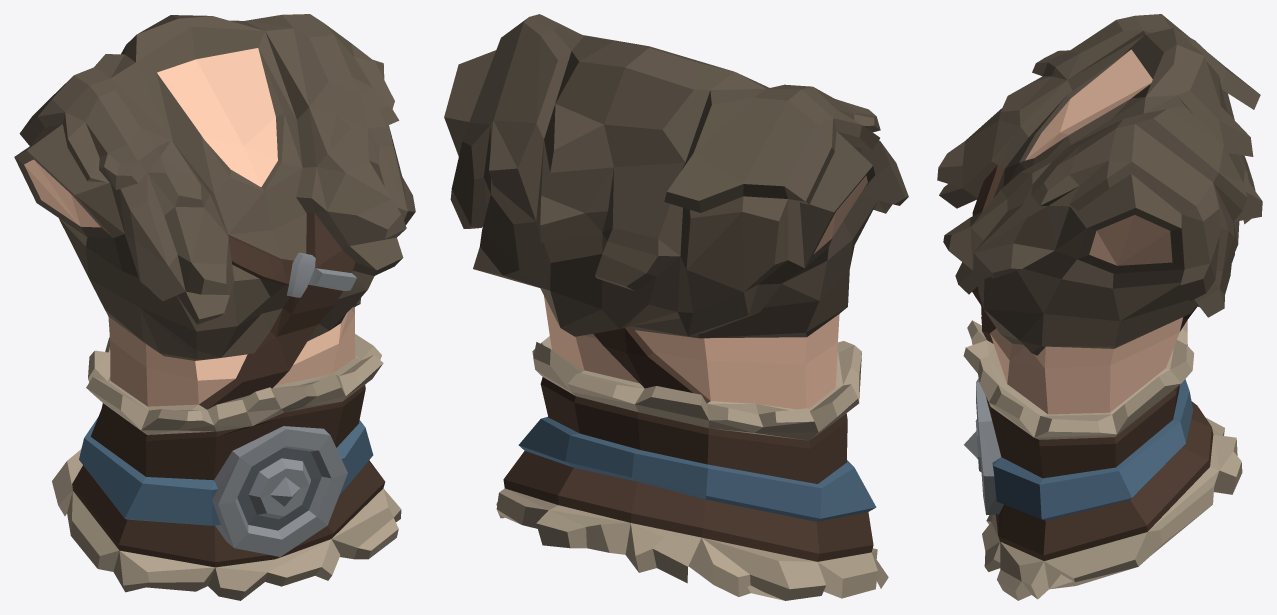
Rendered from Chr_Torso_Female_02_Static.fbx.
3 renders of one model, left to right at view 1: azimuth 30°, elevation 25°; view 2: azimuth 150°, elevation 25°; view 3: azimuth 270°, elevation 25°, orthographic. The views are drawn at different scales.
Parts seen in each view (by area): view 1: Chr_Torso_Female_02_Static; view 2: Chr_Torso_Female_02_Static; view 3: Chr_Torso_Female_02_Static.
Boxes of the visible parts, box(x1,y1,x2,y2) form: Chr_Torso_Female_02_Static: box(14, 14, 415, 600); Chr_Torso_Female_02_Static: box(444, 14, 908, 600); Chr_Torso_Female_02_Static: box(937, 14, 1262, 600).
Bounding box in the file's own units: 0.5172 × 0.703 × 0.4123.
